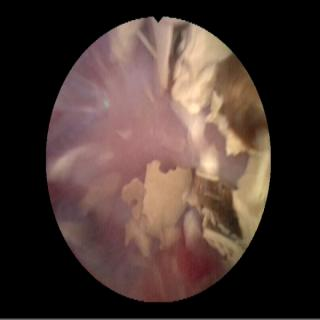stone: (110, 18, 267, 269)
tissue: (49, 36, 219, 298)
